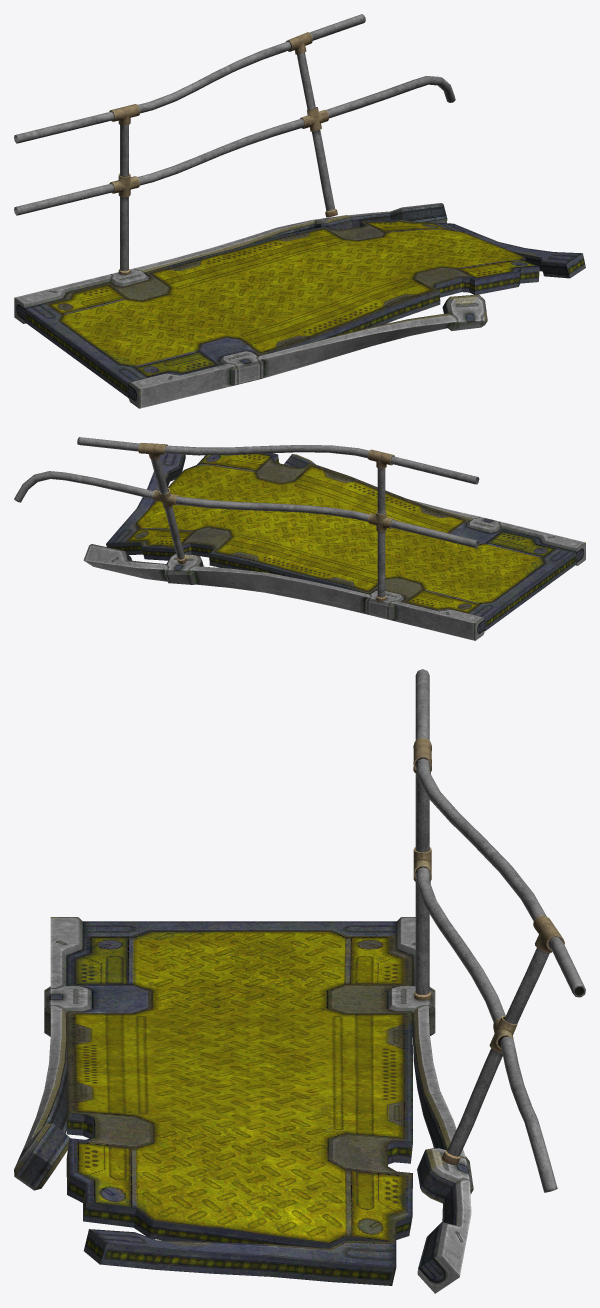
File: catwalk_straight_broken_rail_left.dae
The picture shows the model from 3 angles, top to bottom: view 1: azimuth 30°, elevation 25°; view 2: azimuth 150°, elevation 25°; view 3: azimuth 270°, elevation 25°; orthographic projection. The views are drawn at different scales.
Visible parts, largest first — view 1: catwalk_straight_broken, railing__8_; view 2: catwalk_straight_broken, railing__8_; view 3: catwalk_straight_broken, railing__8_.
Boxes of the visible parts, bbox=[...] form: catwalk_straight_broken: bbox=[14, 203, 585, 408]; railing__8_: bbox=[14, 14, 455, 274]; catwalk_straight_broken: bbox=[83, 453, 585, 640]; railing__8_: bbox=[14, 437, 479, 601]; catwalk_straight_broken: bbox=[14, 917, 473, 1293]; railing__8_: bbox=[413, 669, 585, 1192].
Bounding box in the file's own units: 4.44 × 1.81 × 3.03.
